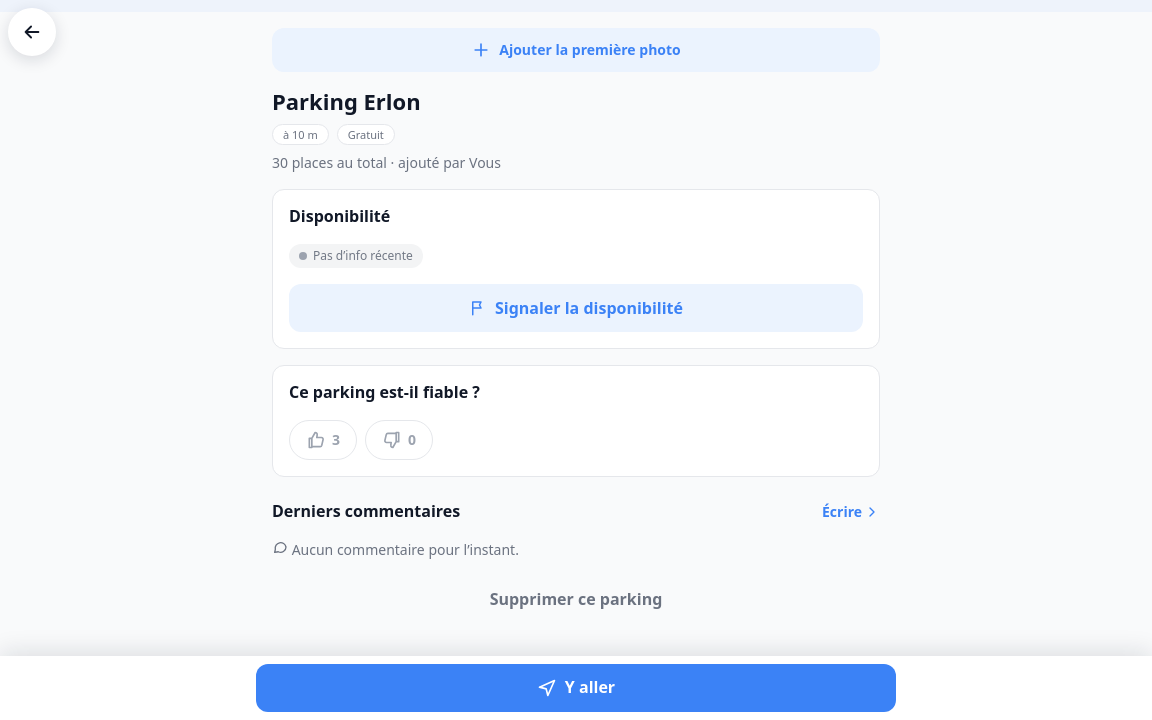
Test: Suppression du parking par son auteur › explique le refus quand d’autres y ont déjà contribué
The image size is (1152, 720).
(page scrolled)
Click the button "Supprimer ce parking": (576, 600) [272,576,880,624]
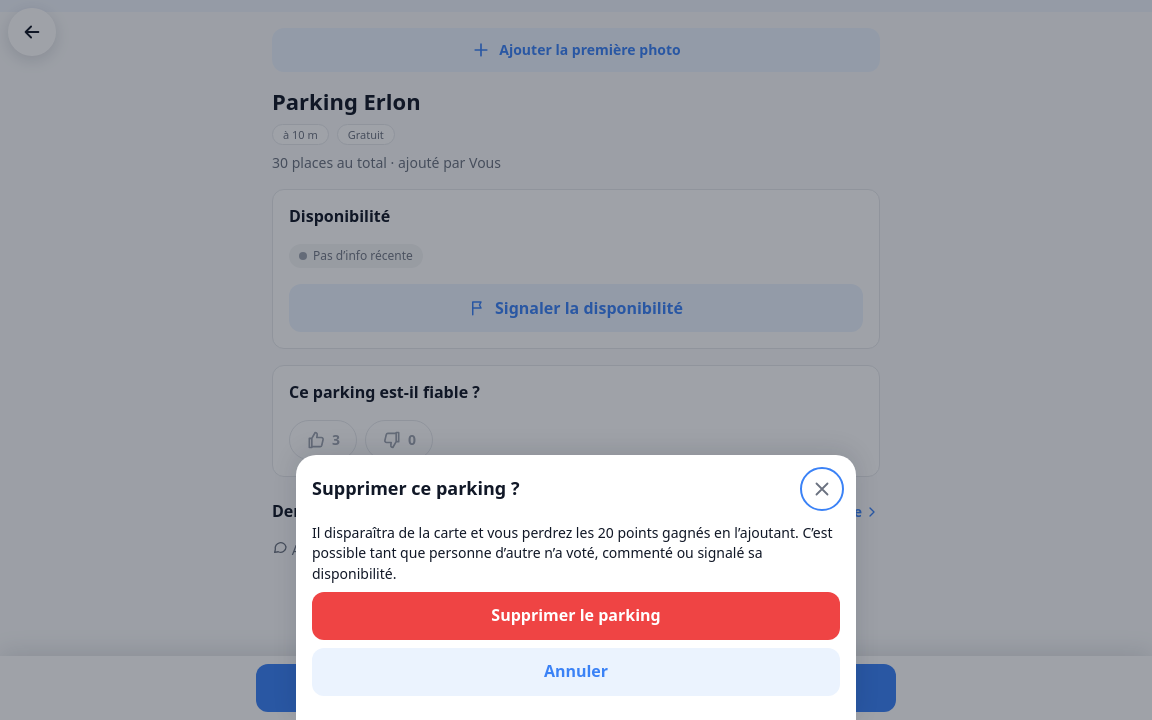
Click the button "Supprimer le parking": (576, 616) [312,592,840,640]
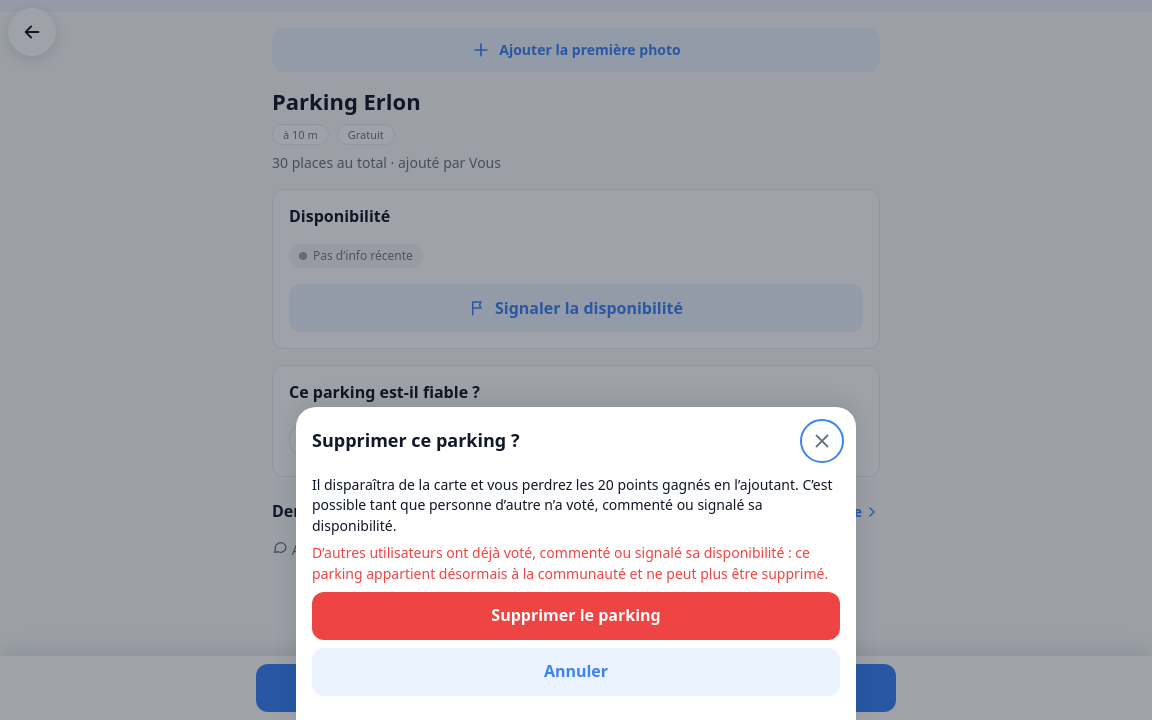
Expected: the message shows "appartient désormais à la communauté", [312,543,828,583]
